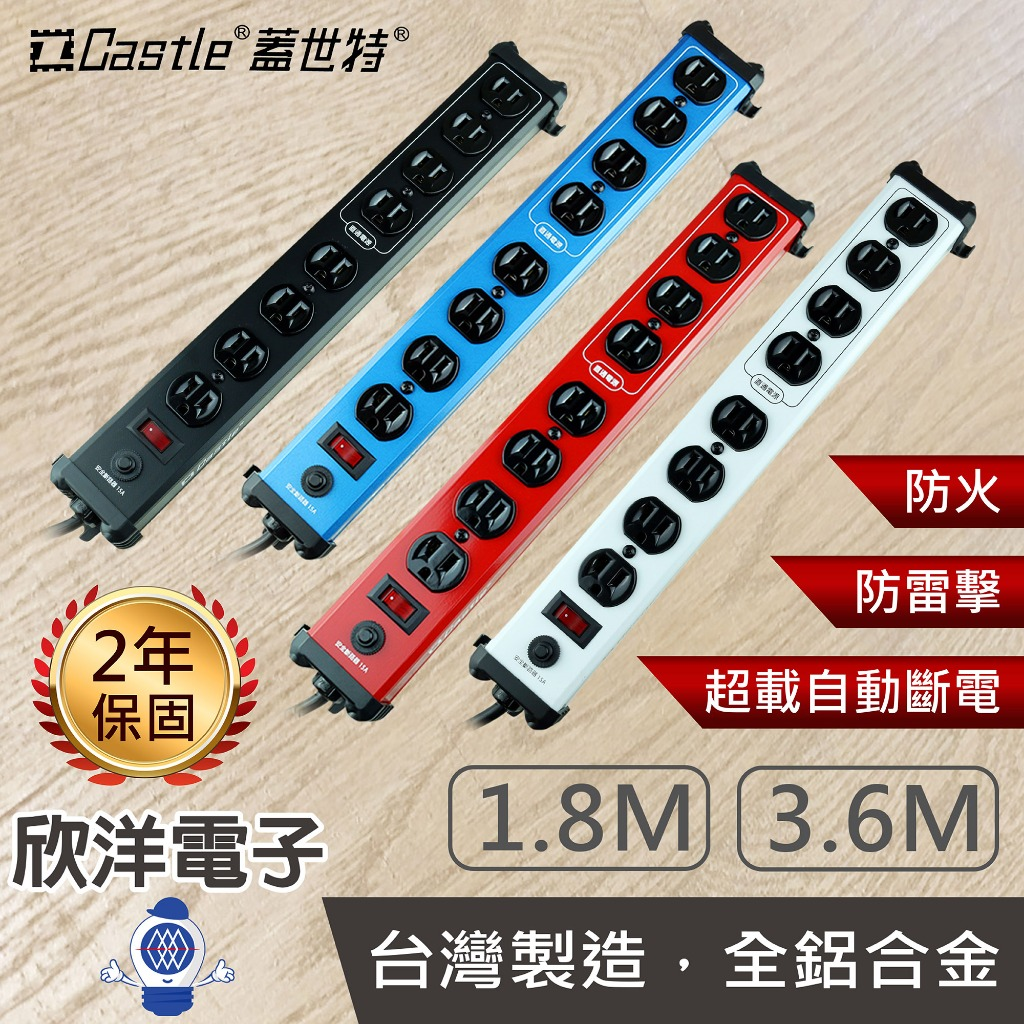socket: (290, 160, 817, 723), (468, 157, 978, 729), (238, 15, 766, 561), (49, 39, 570, 546)
